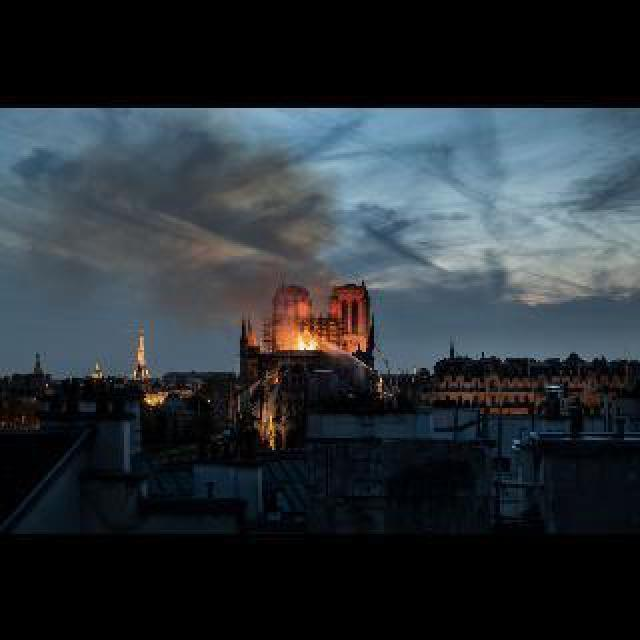Fire: (294, 334, 320, 350)
Smoke: (18, 116, 334, 324)
